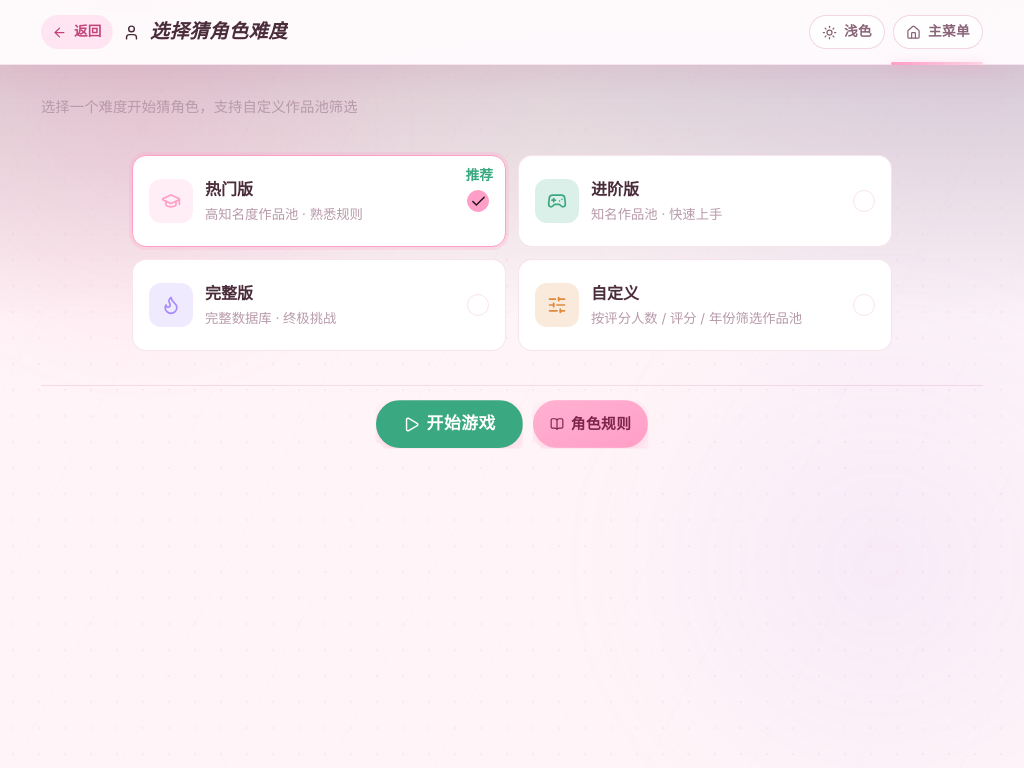
CharacterLobby rules › opens the character rules dialog from the lobby button
Click the button "角色规则".
click(591, 424)  # box x1=533 y1=400 x2=648 y2=448
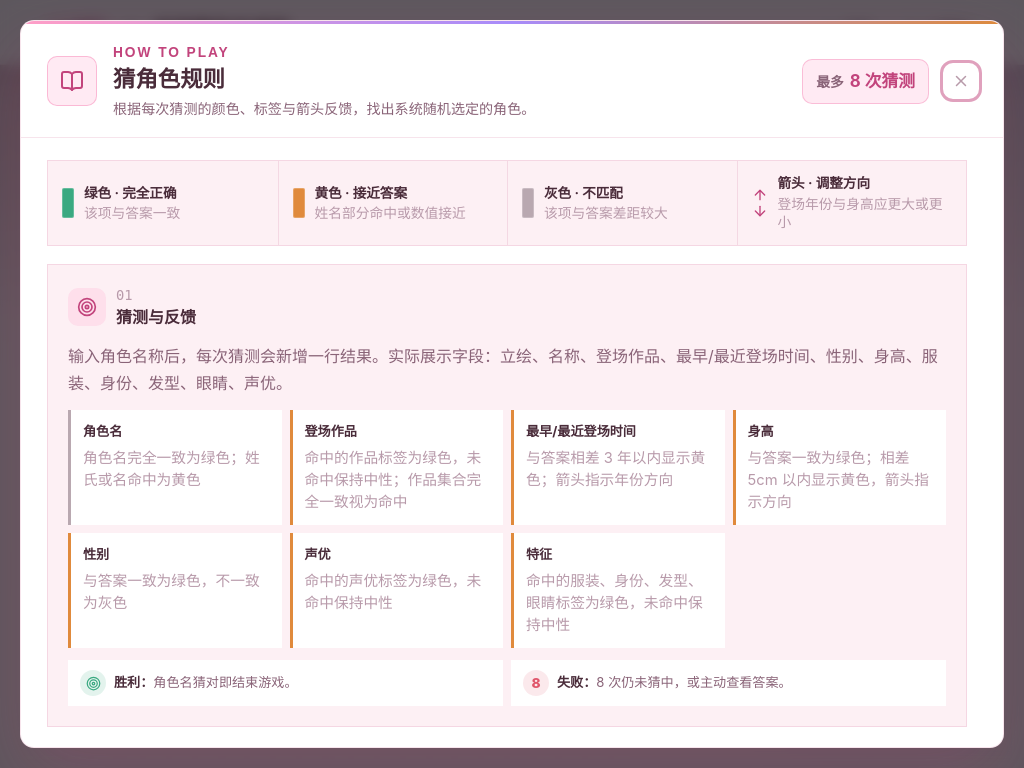
Result: the dialog shows "猜角色规则" at x1=113 y1=65 x2=225 y2=92
Result: the dialog shows "猜测与反馈" at x1=116 y1=308 x2=196 y2=328
Result: the dialog shows "登场作品" at x1=304 y1=423 x2=357 y2=439
